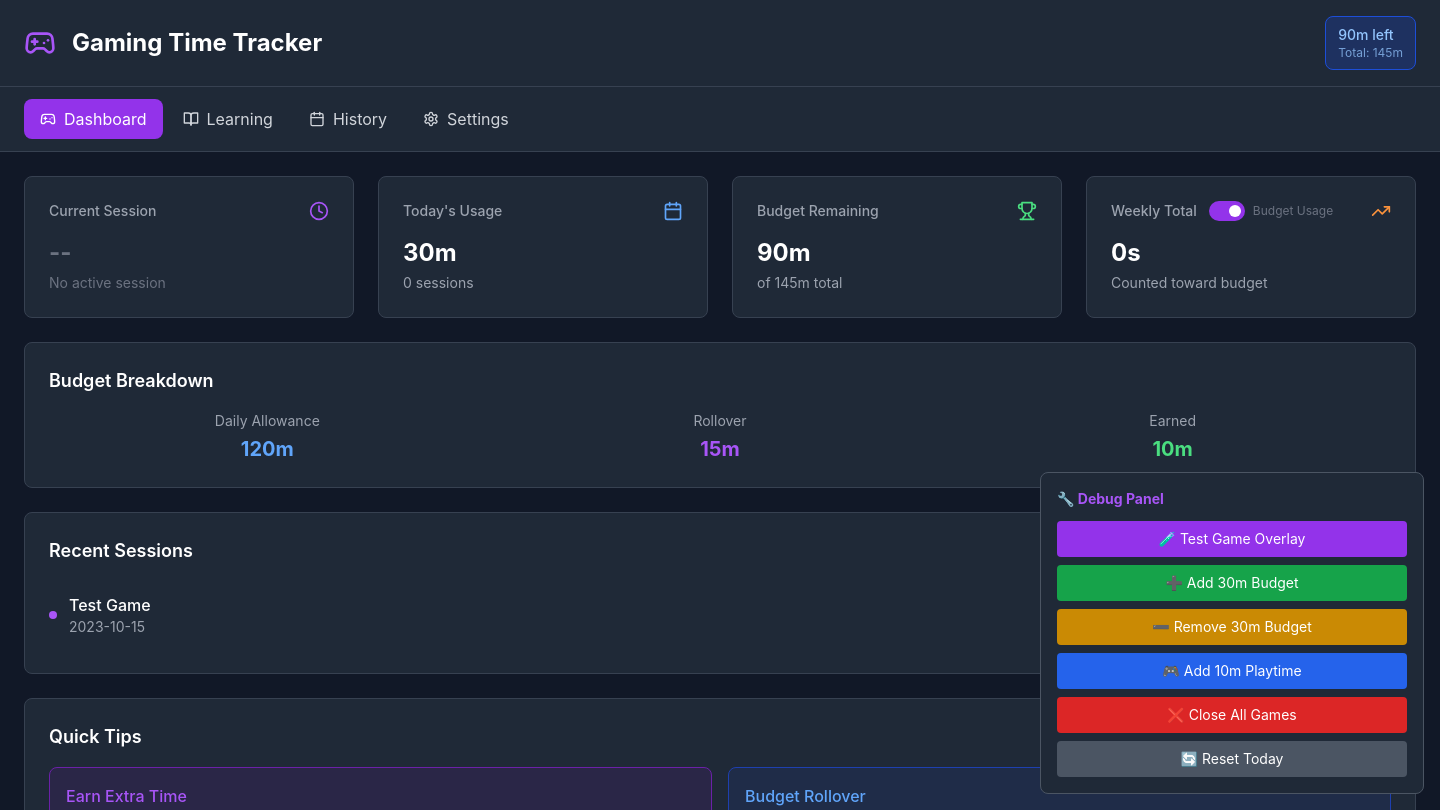
Test case: Integration Tests › persists tab selection during data updates
The image size is (1440, 810).
Check: the heading "Gaming Time Tracker" is shown, box [72,27,322,59]
Click the button "History": click(348, 119) [293,99,403,139]
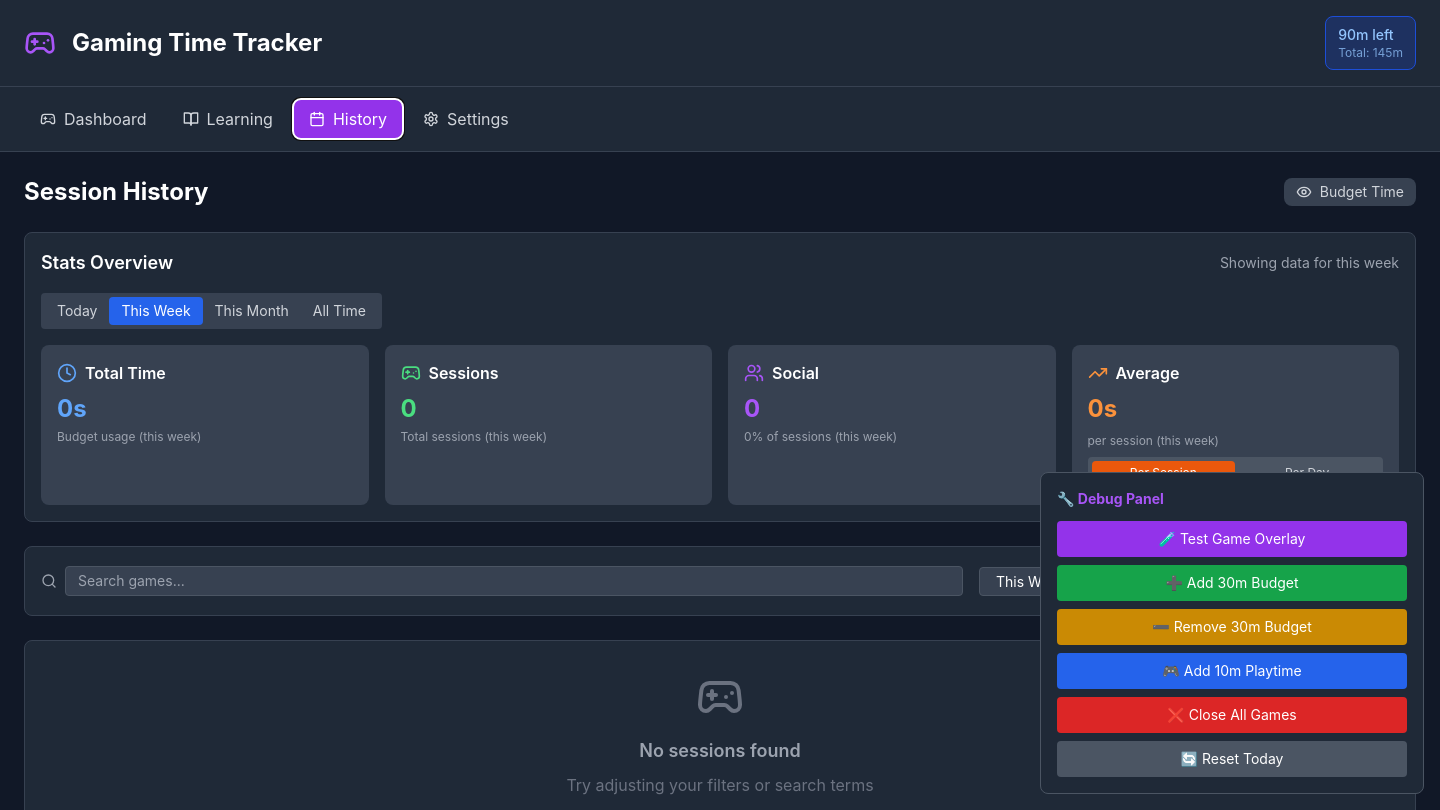
Check: the heading "Stats Overview" is shown, box [41,249,173,277]
